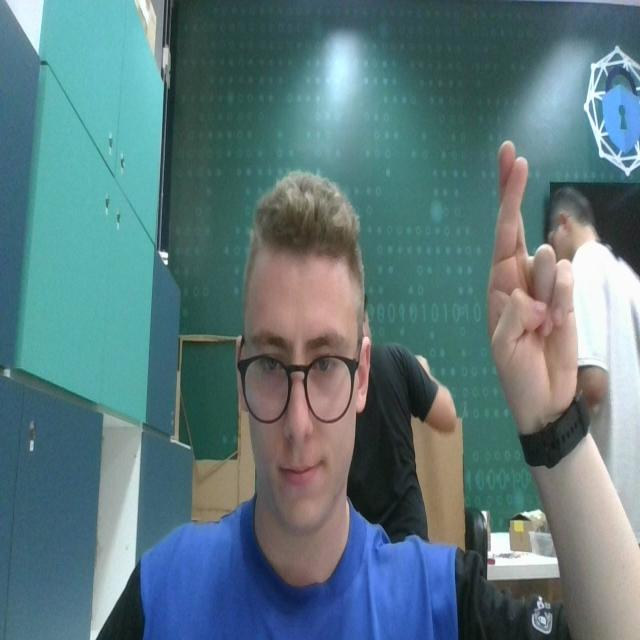R: (482, 137, 586, 421)
